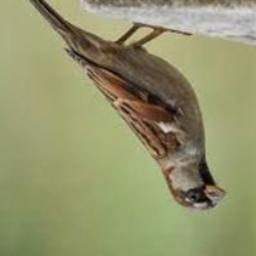Sparrow: (15, 0, 226, 210)
